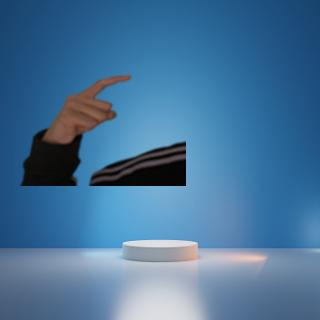WHY: (43, 68, 139, 143)
